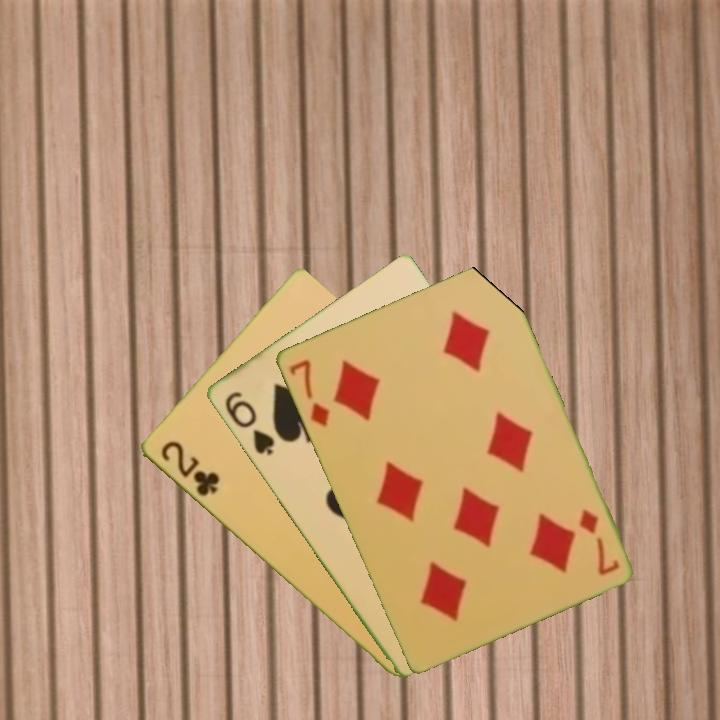2c: (156, 437, 222, 500)
6s: (220, 387, 277, 459)
7d: (285, 356, 333, 430), (574, 505, 622, 578)
